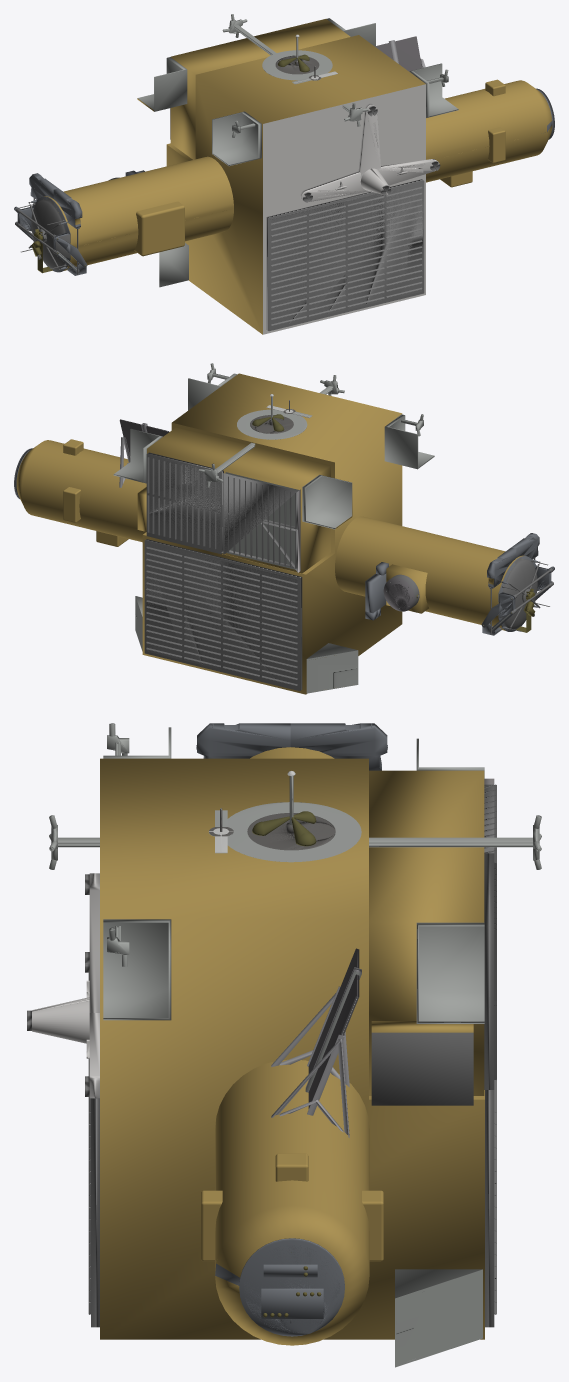
File: spartan-201.glb
3 views of the same model, one above another, from view 1: azimuth 30°, elevation 25°; view 2: azimuth 150°, elevation 25°; view 3: azimuth 270°, elevation 25° (orthographic). The views are drawn at different scales.
Visible parts, largest first — view 1: Fake; view 2: Fake; view 3: Fake.
Boxes of the visible parts, x1,y1,x2,y2 form: Fake: (14, 14, 554, 334); Fake: (14, 363, 554, 694); Fake: (27, 723, 541, 1367).
Size of the model in its own units: 3.33 by 1.53 by 1.45.
Materials: 1 (1 with a texture image).
